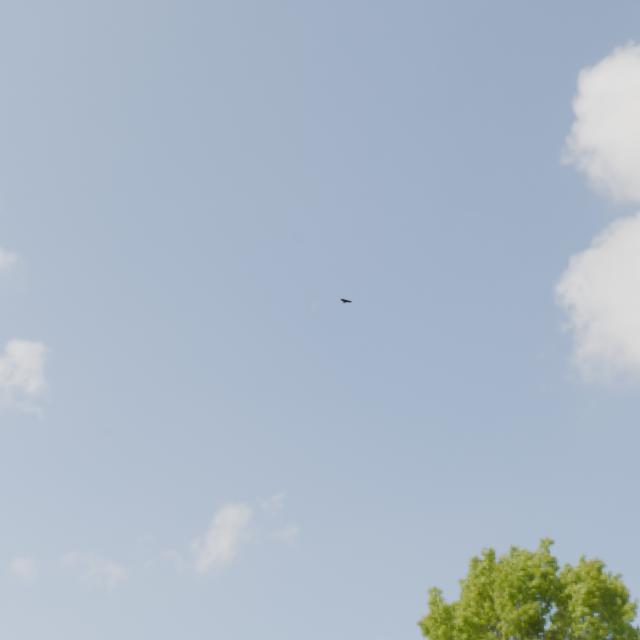Airaplan: (340, 298, 352, 304)
